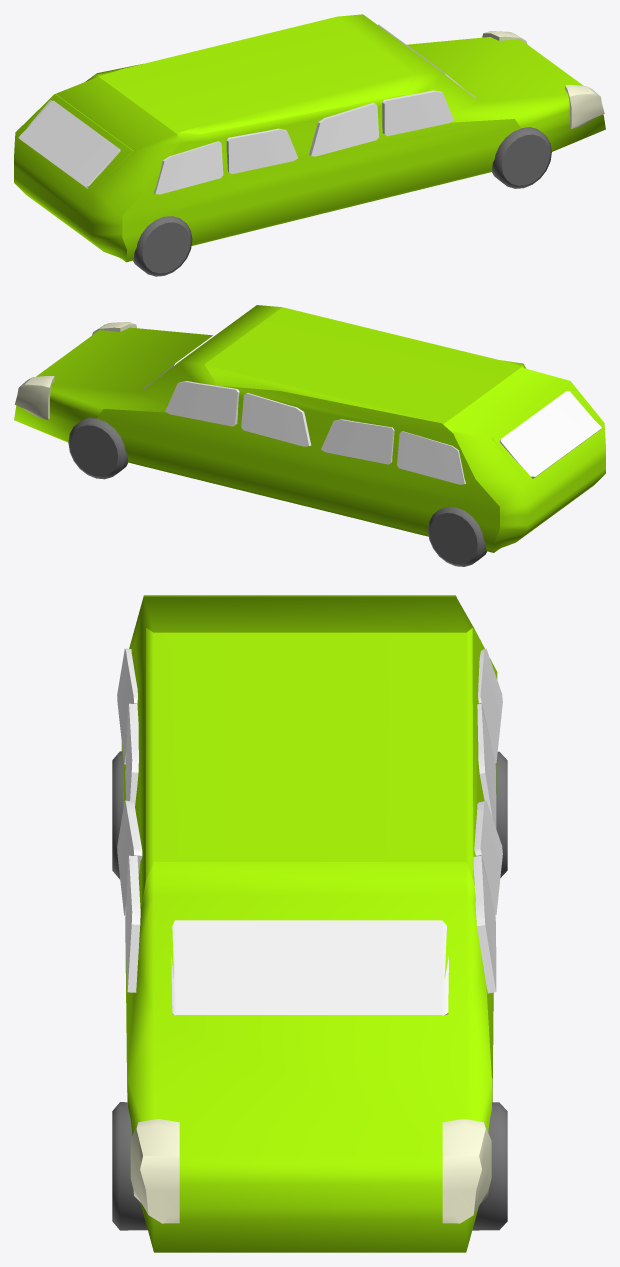
The model's file is CarroVerde.fbx.
3 views of the same model, one above another, from view 1: azimuth 30°, elevation 25°; view 2: azimuth 150°, elevation 25°; view 3: azimuth 270°, elevation 25° (orthographic). The views are drawn at different scales.
Visible parts, largest first — view 1: pCube1, pCube10, pCylinder1, pCylinder2, pCube13, pCube8, pasted__pCube8, pasted__pCube13, pCube9; view 2: pCube1, pCube10, pCylinder3, pCylinder4, pasted__pCube12, pCube14, pasted__pasted__pCube12, pasted__pCube14, pCube9; view 3: pCube1, pCube6, pCube9, pCylinder1, pCylinder3, pasted__pCube12, pCube14, pCube8, pasted__pCube14, pCube13, pasted__pasted__pCube12, pasted__pCube13 (+3 smaller).
Boxes of the visible parts, x1,y1,x2,y2 form: pCube1: [14, 14, 605, 262]; pCube10: [18, 100, 120, 188]; pCylinder1: [492, 127, 551, 188]; pCylinder2: [133, 216, 192, 276]; pCube13: [309, 102, 378, 156]; pCube8: [382, 90, 453, 136]; pasted__pCube8: [226, 128, 297, 174]; pasted__pCube13: [154, 141, 223, 194]; pCube9: [482, 31, 604, 128]; pCube1: [14, 305, 605, 552]; pCube10: [499, 391, 601, 478]; pCylinder3: [68, 418, 127, 479]; pCylinder4: [428, 506, 486, 566]; pasted__pCube12: [165, 381, 239, 426]; pCube14: [241, 393, 311, 446]; pasted__pasted__pCube12: [321, 419, 394, 464]; pasted__pCube14: [397, 431, 465, 484]; pCube9: [15, 322, 136, 419]; pCube1: [121, 595, 497, 1252]; pCube6: [171, 920, 448, 1015]; pCube9: [130, 1119, 491, 1223]; pCylinder1: [112, 1102, 147, 1230]; pCylinder3: [472, 1102, 507, 1230]; pasted__pCube12: [473, 856, 496, 993]; pCube14: [474, 800, 502, 915]; pCube8: [125, 855, 140, 992]; pasted__pCube14: [478, 648, 502, 763]; pCube13: [117, 800, 142, 916]; pasted__pasted__pCube12: [477, 704, 496, 828]; pasted__pCube13: [117, 648, 137, 764].
Size of the model in its own units: 33.37 by 8.24 by 11.09.
